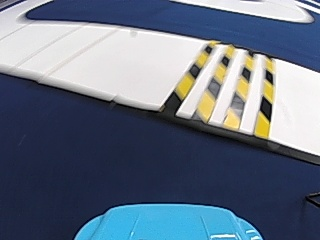bump: (163, 44, 277, 135)
